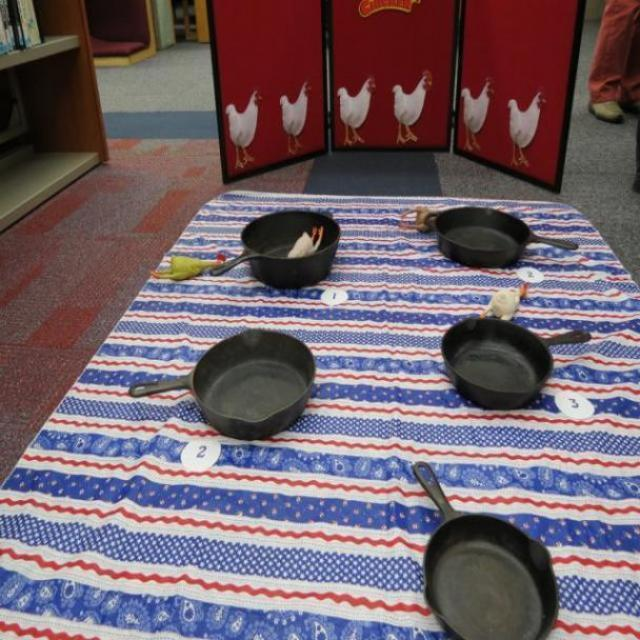Chicken: (223, 88, 268, 176), (502, 84, 547, 171), (388, 70, 435, 148), (455, 73, 497, 159), (473, 279, 531, 334), (276, 79, 315, 159), (144, 253, 231, 286), (340, 71, 373, 149), (285, 222, 327, 273), (399, 203, 438, 249)
